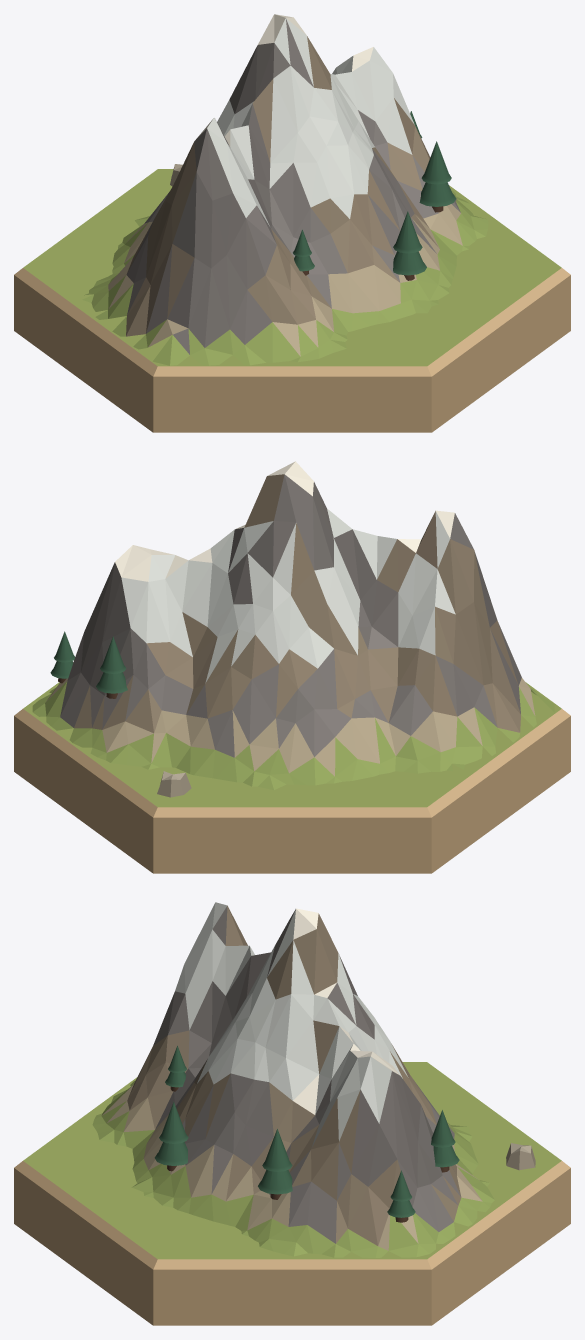
The model's file is tile_mountains_2.fbx.
The picture shows the model from 3 angles, top to bottom: view 1: azimuth 30°, elevation 25°; view 2: azimuth 150°, elevation 25°; view 3: azimuth 270°, elevation 25°; orthographic projection.
Parts seen in each view (by area): view 1: tile_mountains_2; view 2: tile_mountains_2; view 3: tile_mountains_2.
Part boxes in pixels (x1,y1,x2,y2): tile_mountains_2: [14, 14, 570, 432]; tile_mountains_2: [14, 461, 570, 873]; tile_mountains_2: [14, 902, 570, 1325].
Size of the model in its own units: 1.73 by 1.24 by 2.
